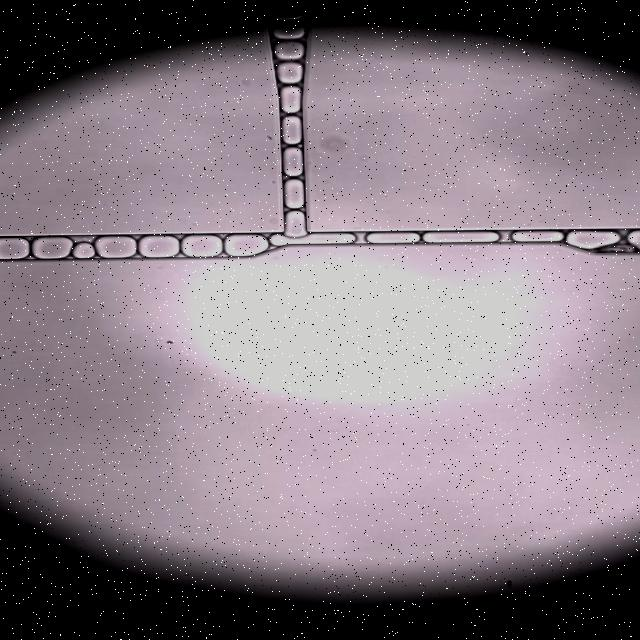L: (284, 179, 305, 209), (273, 41, 303, 61), (283, 147, 303, 177), (280, 86, 301, 113), (512, 231, 563, 242), (285, 211, 306, 237), (277, 63, 303, 84), (366, 233, 419, 243), (283, 116, 301, 144), (272, 24, 305, 39), (627, 230, 640, 250)
S: (566, 231, 620, 250), (225, 235, 269, 256), (94, 236, 136, 258), (139, 236, 180, 257), (182, 236, 222, 257), (32, 237, 72, 258), (272, 234, 355, 244), (423, 232, 498, 243), (0, 237, 29, 260), (72, 241, 94, 258)
